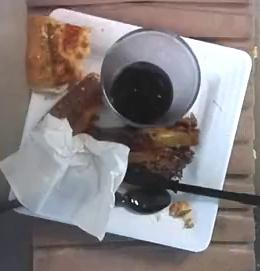pizza_crust: (29, 16, 91, 88), (50, 73, 102, 135)
unknown: (93, 115, 199, 180)
